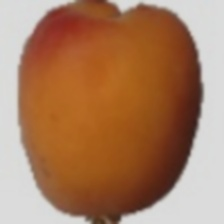apricot: (52, 1, 187, 181)
